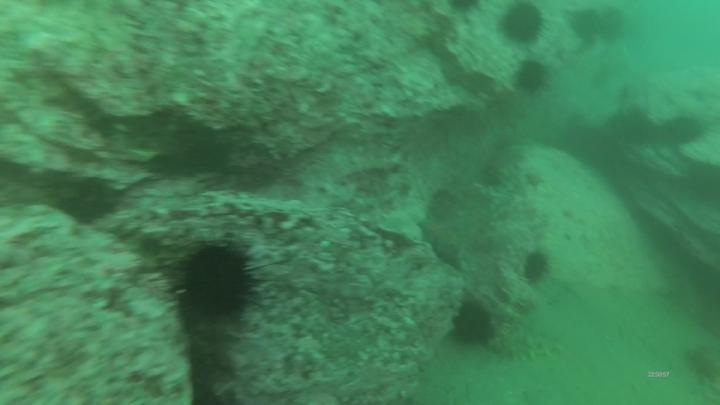echinus: (166, 237, 265, 323), (499, 1, 551, 48), (450, 301, 498, 350), (659, 113, 708, 150), (513, 59, 552, 97), (571, 6, 604, 43), (522, 248, 551, 287), (447, 1, 485, 16)
holothurian: (487, 321, 570, 364)
